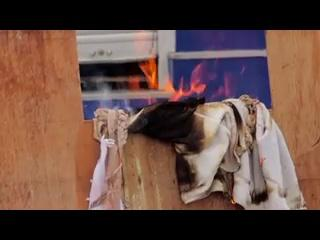Fire: (125, 31, 248, 110)
